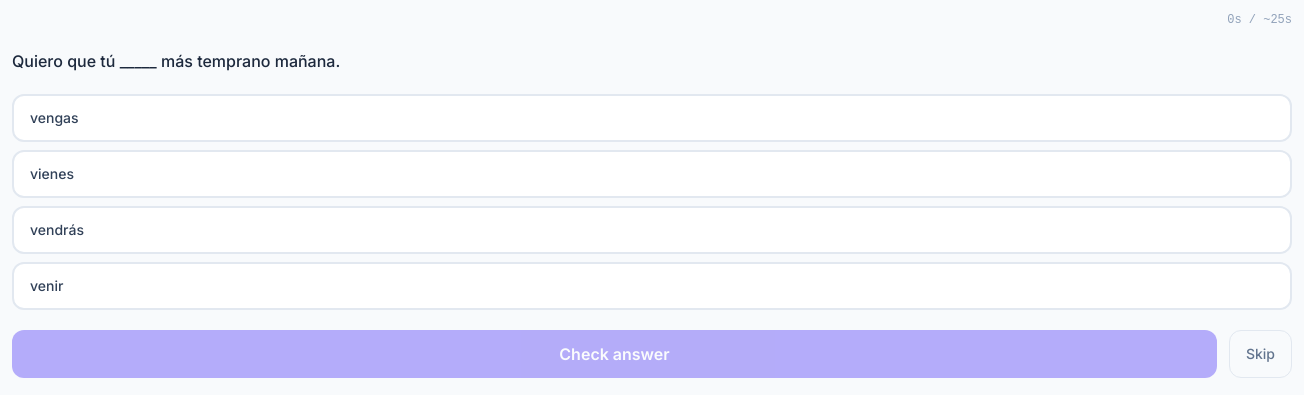
Scenario: ExerciseRenderer — multiple choice › renders the Check answer button enabled only after selection
The width and height of the screenshot is (1304, 395).
Expected: the button "Check answer" is disabled, [12,330,1217,378]
Click the radio button labelled "vengas": (54, 118) [12,94,1292,142]
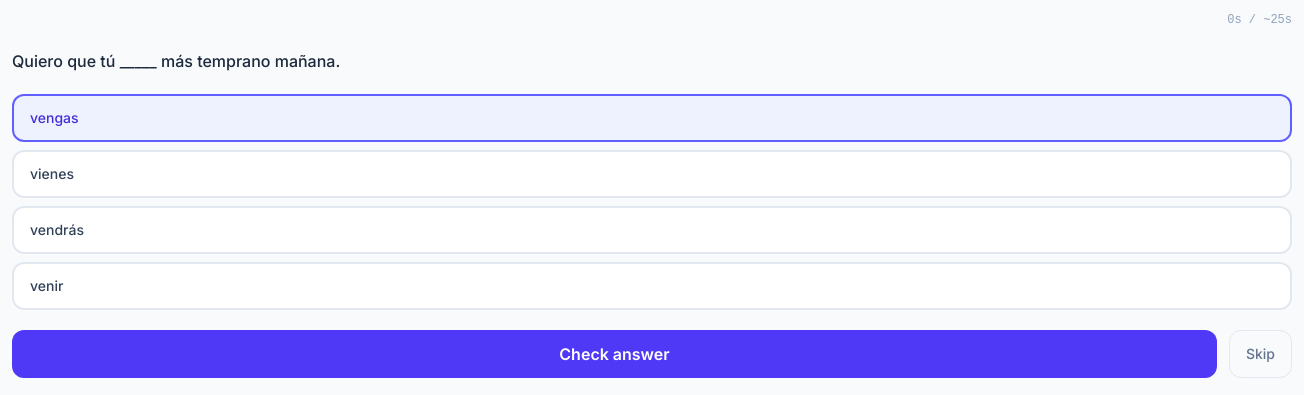
Now the button "Check answer" is enabled, box [12,330,1217,378]
